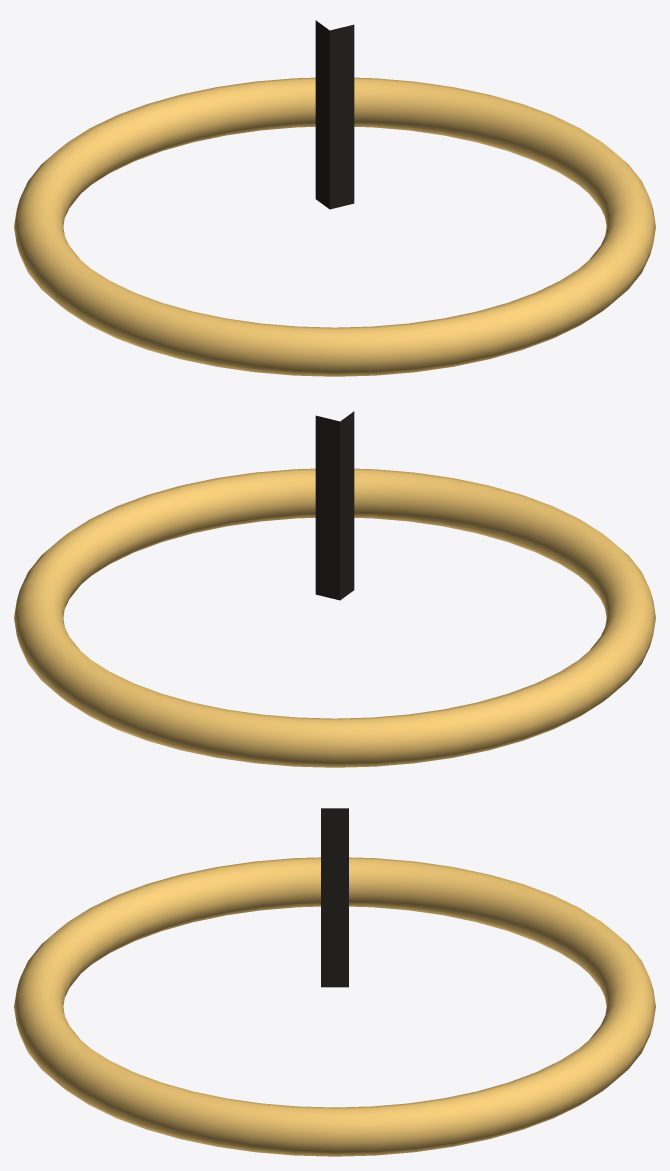
The model's file is ring.glb.
3 views of the same model, one above another, from view 1: azimuth 30°, elevation 25°; view 2: azimuth 150°, elevation 25°; view 3: azimuth 270°, elevation 25° (orthographic).
Size of the model in its own units: 0.91 by 0.355 by 0.91.
